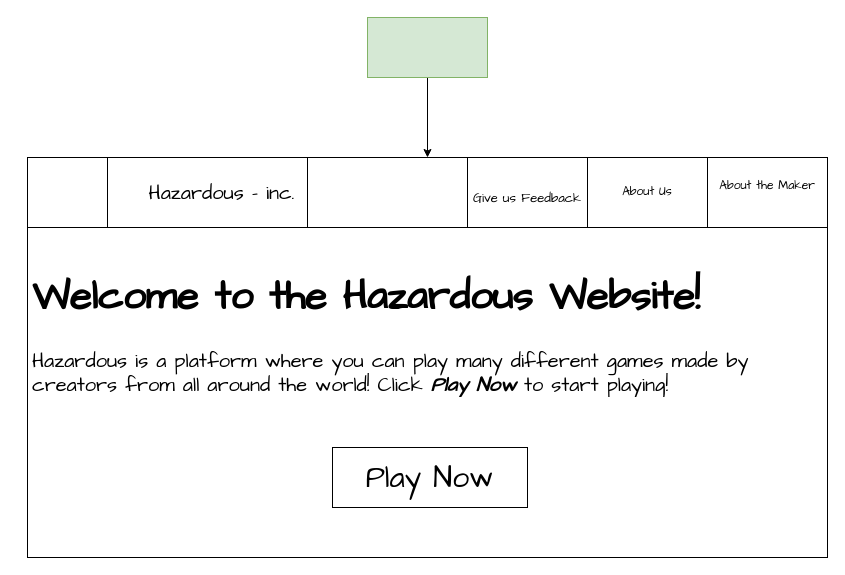
This 845x575 diagram has some shape labels left out. The centre of each missing label's shape, as x and y in pixels:
Click here to visit our online store!: the point at 387,192
Logo Here: the point at 67,192
Start: the point at 427,47
